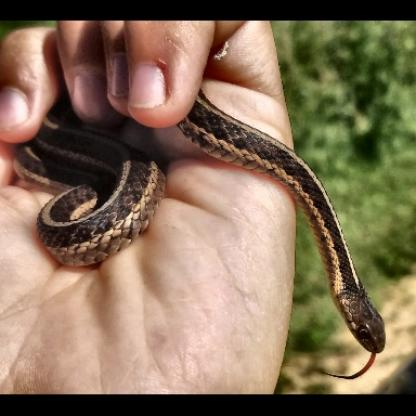Snake: (26, 127, 392, 373)
